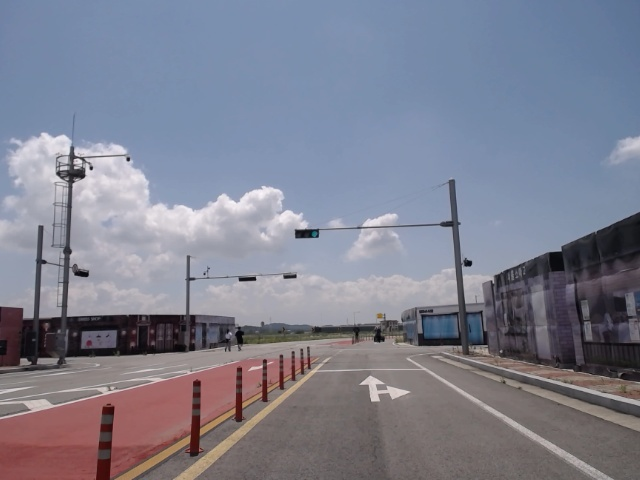green_3: (295, 229, 319, 238)
